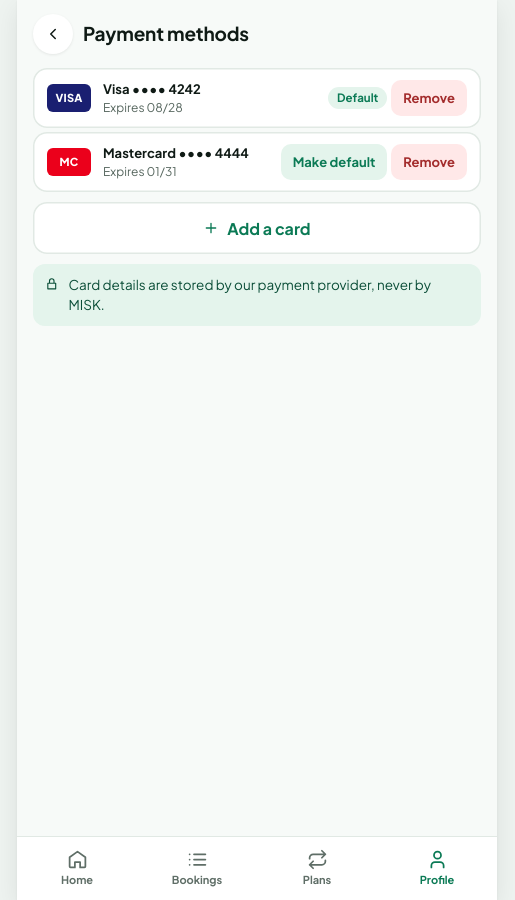
Test: Payment methods › lists each card with its last 4 digits and expiry, the default marked, and the provider note
Expected: the list item "VISA Visa •••• 4242 Expires 08/28 Default Remove" is shown, left=33, top=68, right=481, bottom=128
Expected: the list item "MC Mastercard •••• 4444 Expires 01/31 Make default Remove" is shown, left=33, top=132, right=481, bottom=192
Click the button with aria-label "Make Mastercard •••• 4444 the default": [334, 162] box left=281, top=144, right=387, bottom=180
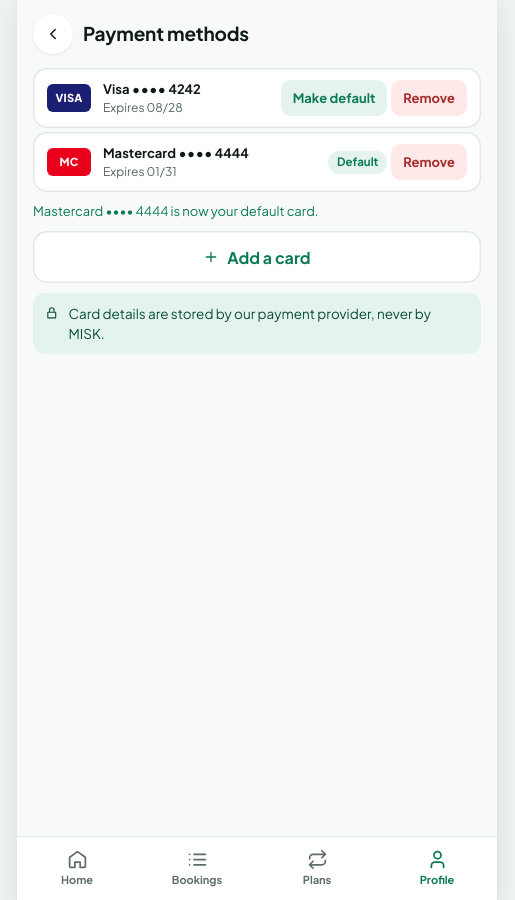
Expected: the message reads "Mastercard •••• 4444 is now your default card.", left=33, top=204, right=318, bottom=220
